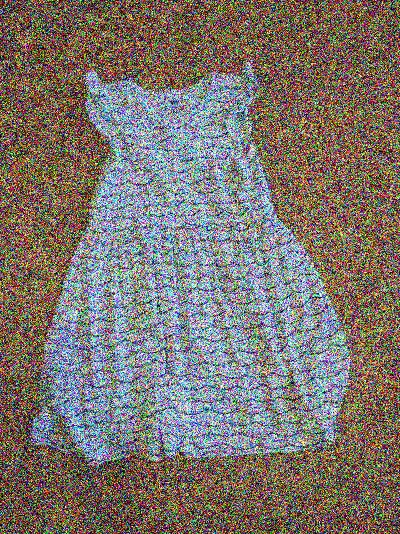Dress: (10, 22, 365, 484)
